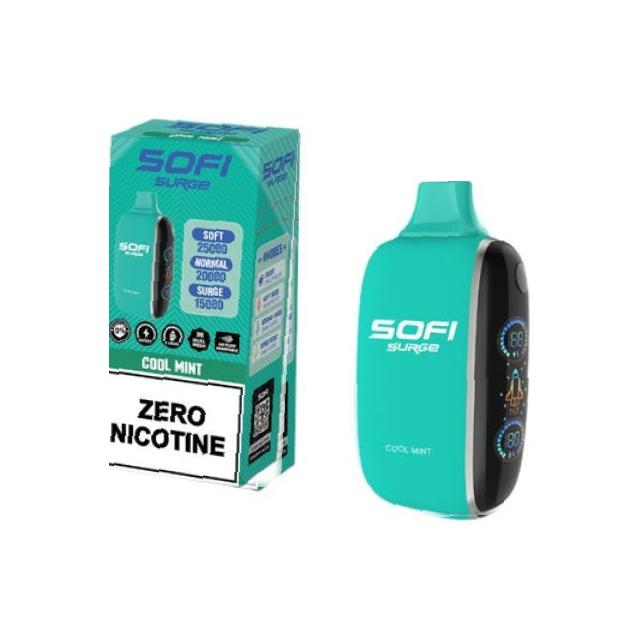Vapes: (109, 118, 300, 491), (353, 181, 530, 520)
